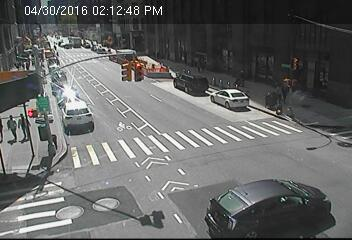neg: (75, 178, 117, 234), (249, 146, 289, 198), (202, 148, 230, 184), (83, 5, 108, 39), (132, 84, 156, 116), (163, 14, 185, 44), (109, 14, 131, 43), (145, 12, 163, 35), (56, 7, 73, 29), (218, 10, 235, 32), (225, 107, 241, 129), (257, 21, 270, 39), (287, 47, 300, 65), (33, 7, 43, 19)
pos: (9, 110, 33, 142), (1, 114, 23, 145), (233, 64, 253, 91), (276, 79, 295, 104), (193, 56, 207, 75)
